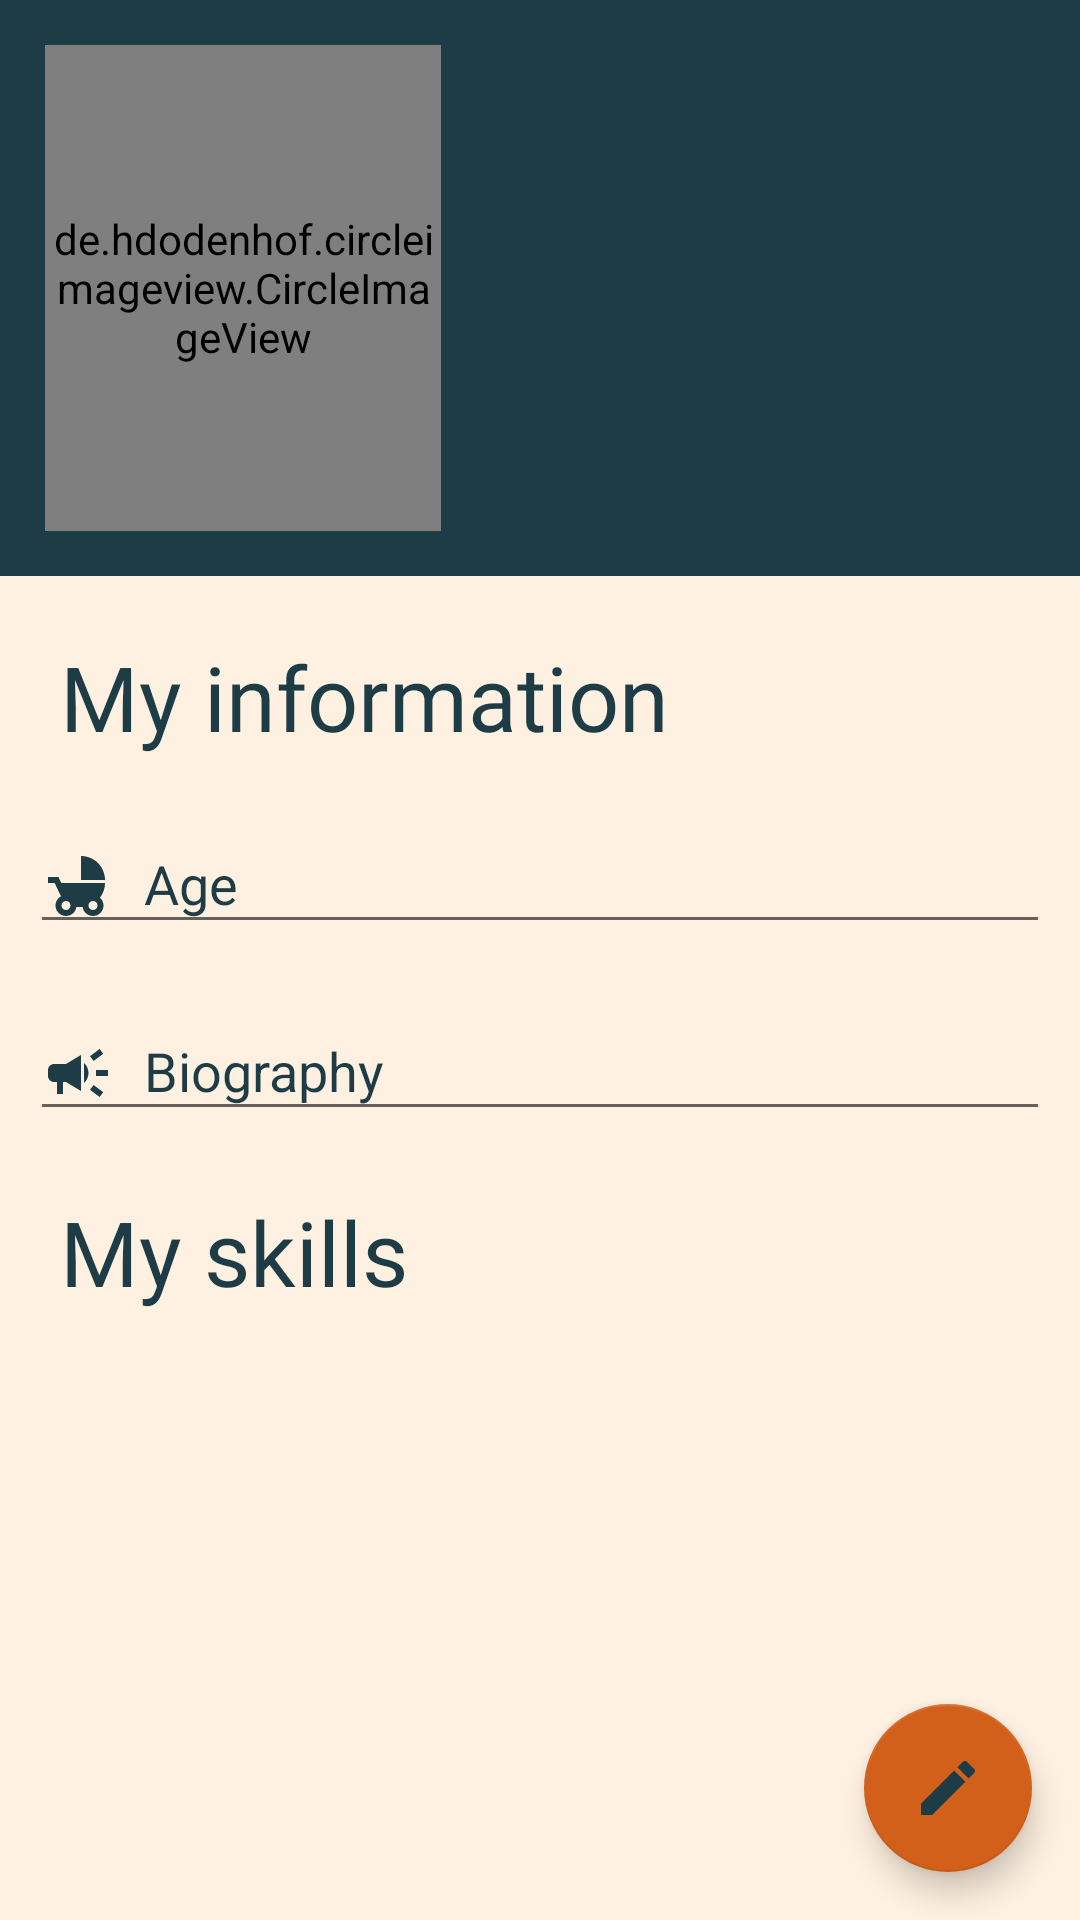

Named icons in this screenshot (1080px×1920px) and their centers, (x=x, y=y):
Edit user: (x=948, y=1788)
